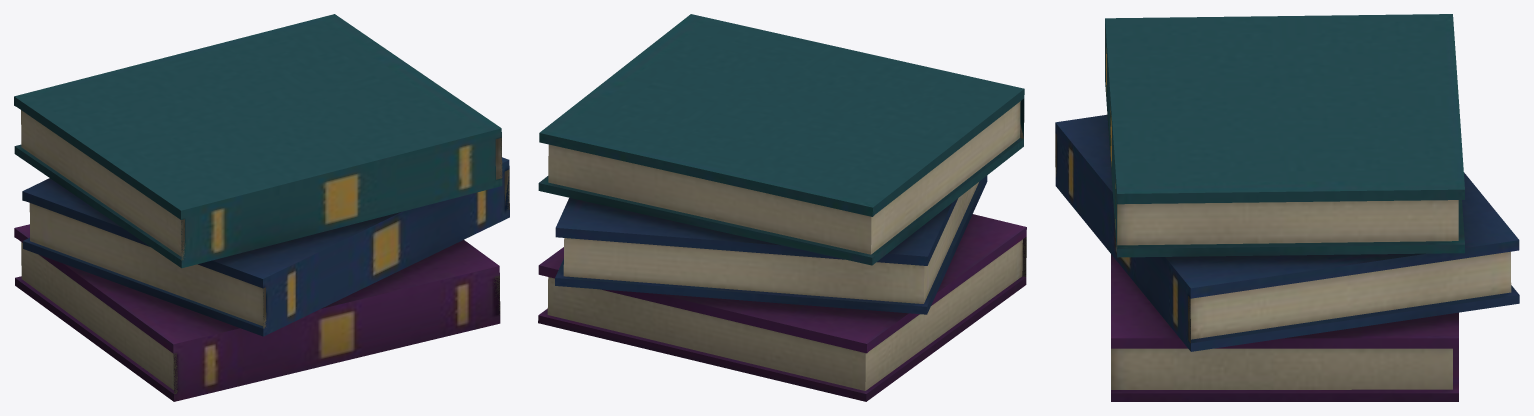
The model's file is books-stack-v1.glb.
3 views of the same model, side by side, from view 1: azimuth 30°, elevation 25°; view 2: azimuth 150°, elevation 25°; view 3: azimuth 270°, elevation 25° (orthographic). The views are drawn at different scales.
Visible parts, largest first — view 1: books_stack; view 2: books_stack; view 3: books_stack.
Part boxes in pixels (x1,y1,x2,y2): books_stack: (14, 14, 509, 401); books_stack: (538, 14, 1026, 401); books_stack: (1055, 14, 1519, 401).
Size of the model in its own units: 0.4191 by 0.1939 by 0.3856.
1 material, 1 textured.
